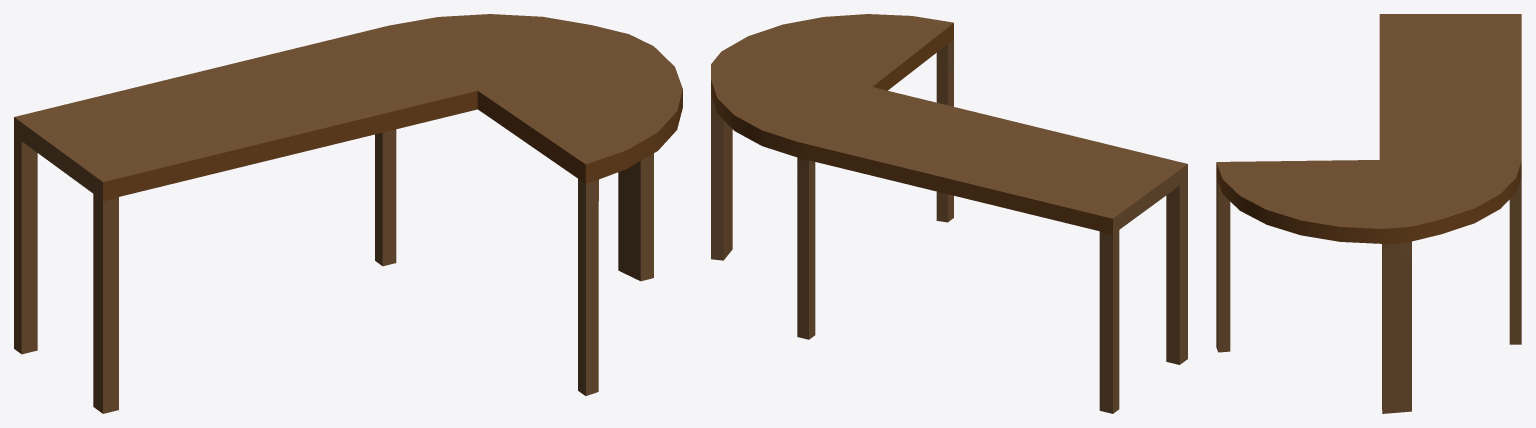
The model's file is Desk_finished.fbx.
3 renders of one model, left to right at view 1: azimuth 30°, elevation 25°; view 2: azimuth 150°, elevation 25°; view 3: azimuth 270°, elevation 25°, orthographic. The views are drawn at different scales.
Parts seen in each view (by area): view 1: pCube1; view 2: pCube1; view 3: pCube1.
Part boxes in pixels (x1,y1,x2,y2): pCube1: (14,14,682,413); pCube1: (711,14,1187,413); pCube1: (1216,14,1521,413).
Bounding box in the file's own units: 5.85 × 2.35 × 3.51.
Materials: 1 (1 with a texture image).
